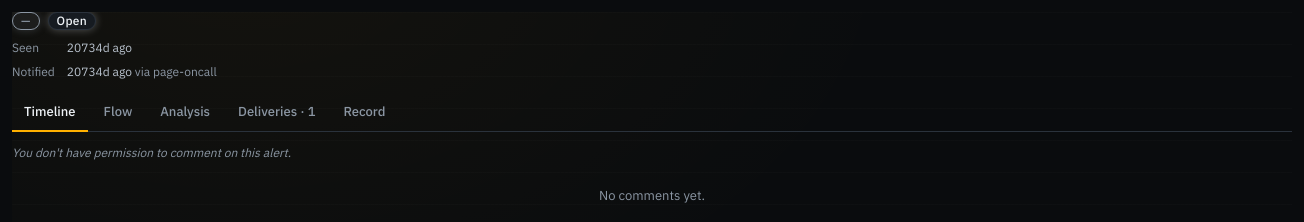
it: AlertRowDetail › renders the delivery timeline when the Deliveries tab is opened
What coordinates should you click on to do the following:
click the tab "Deliveries · 1"
I would click on:
 (277, 113)
Its box is [226,94,327,132].
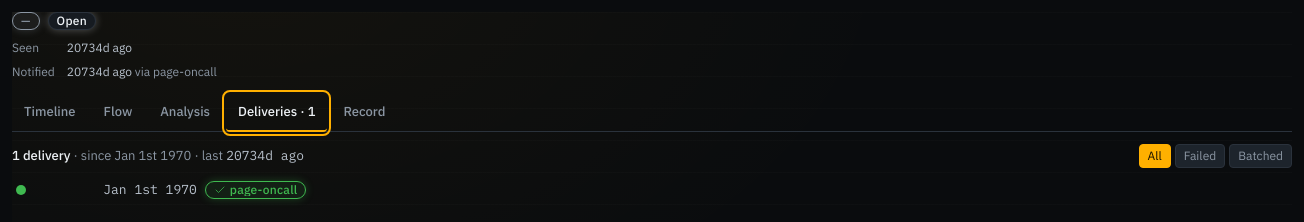
Result: the panel named "Deliveries · 1" shows "page-oncall" at [230,182,297,196]
